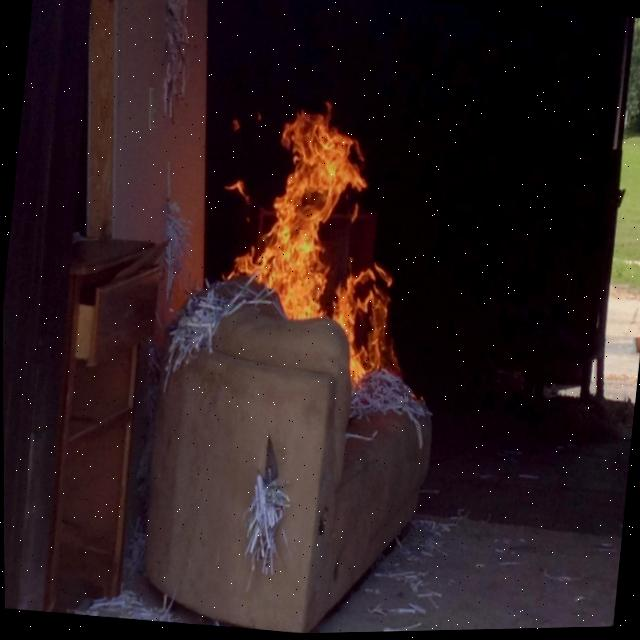fire: (189, 99, 443, 398)
